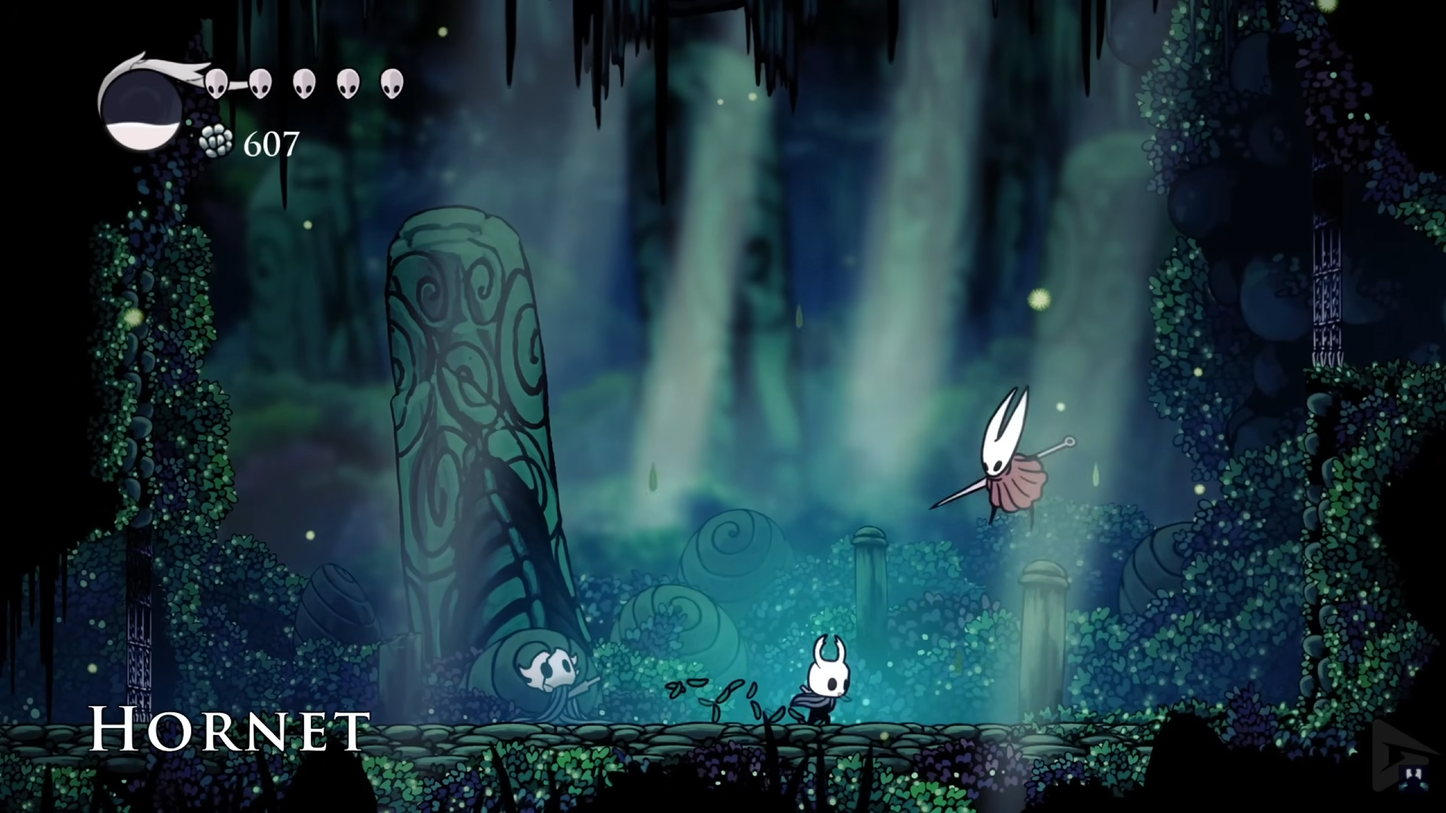HK: (791, 629, 857, 729)
